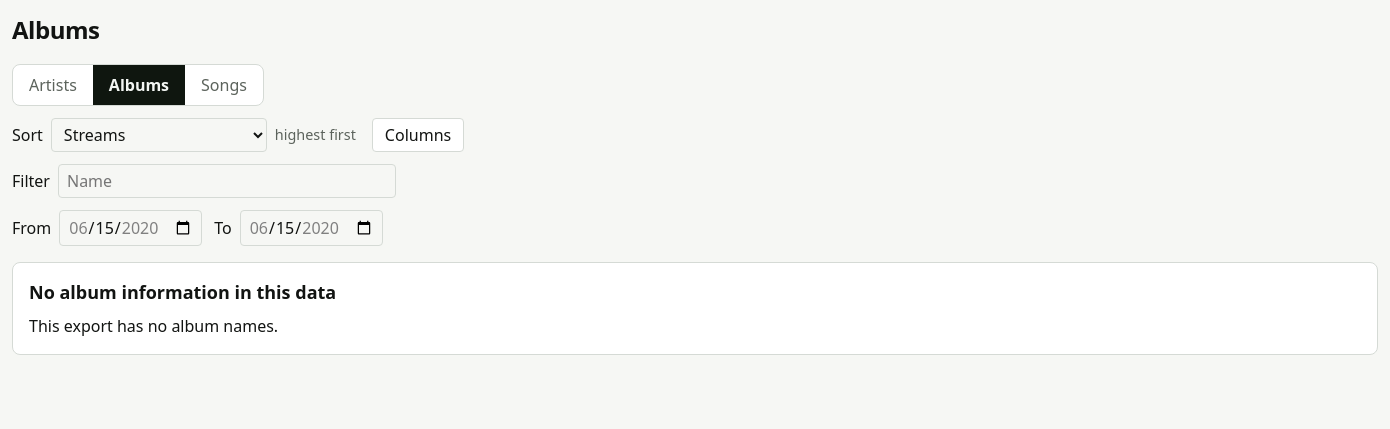
DataPage › says when the export has no albums
Expected: the heading "No album information in this data" is shown, 29,280 -> 336,304
Click the link "Artists" at (53, 85), box 29,74 -> 77,96
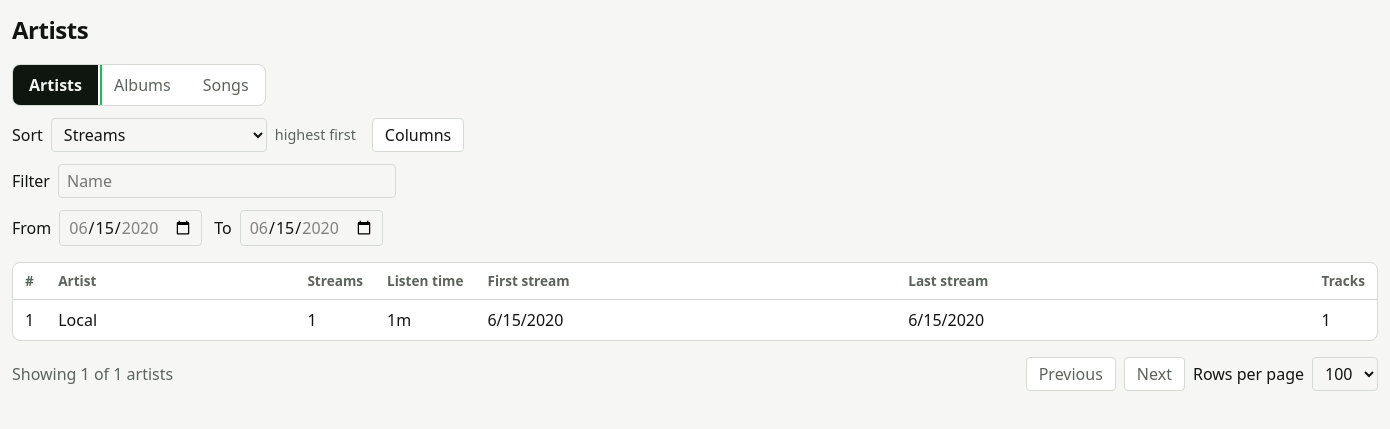
Now the cell "Local" is shown, box 46,300 -> 295,340
Click the link "Songs" at (226, 85), box 203,74 -> 249,96
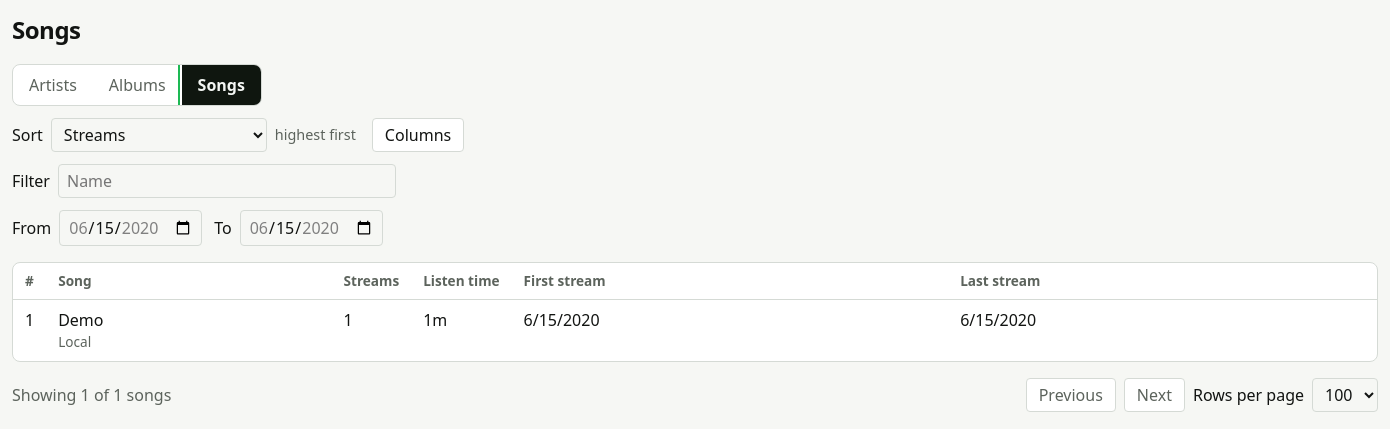
Now the element titled "Demo — Local" is shown, box 58,309 -> 104,351
